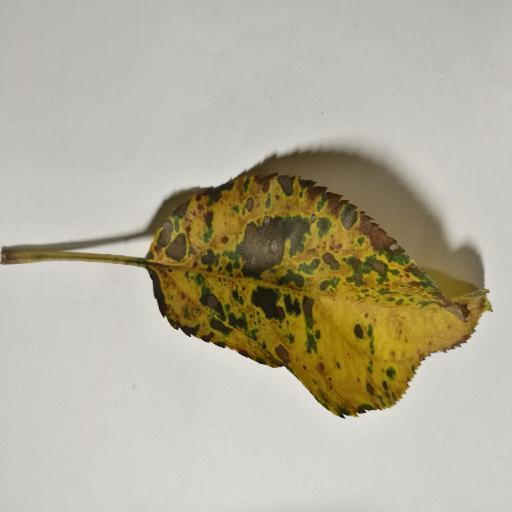Brown_Spot: (151, 185, 443, 334)
